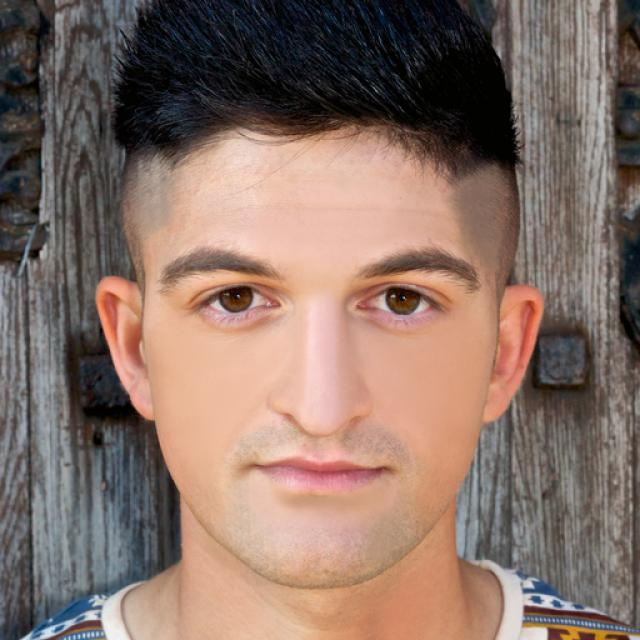neutral: (145, 127, 494, 588)
